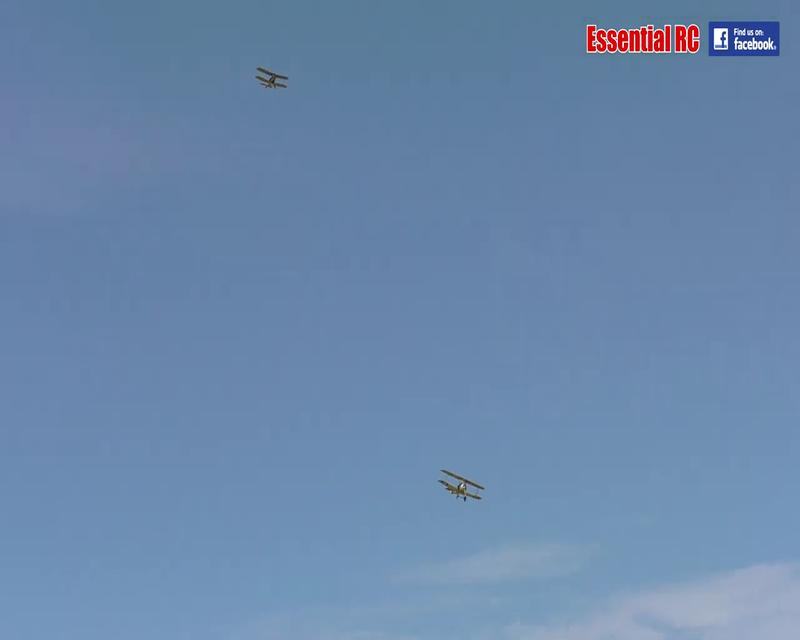UAV: (438, 468, 486, 503), (255, 66, 290, 94)
